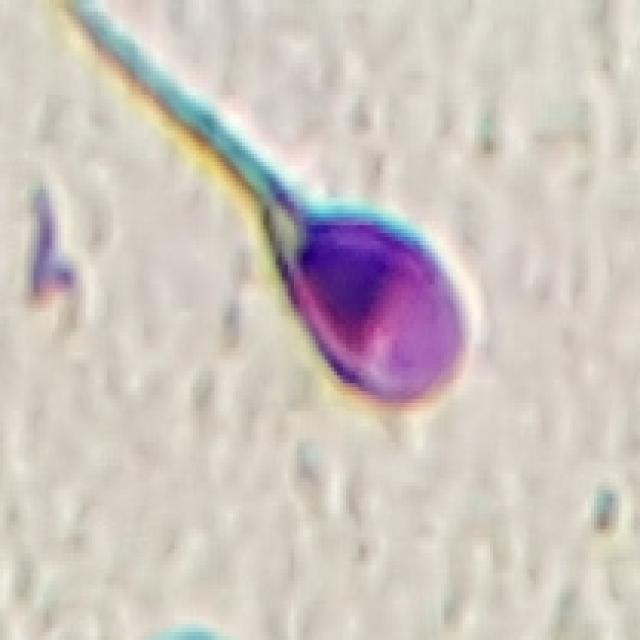normal sperm: (191, 110, 474, 413)
